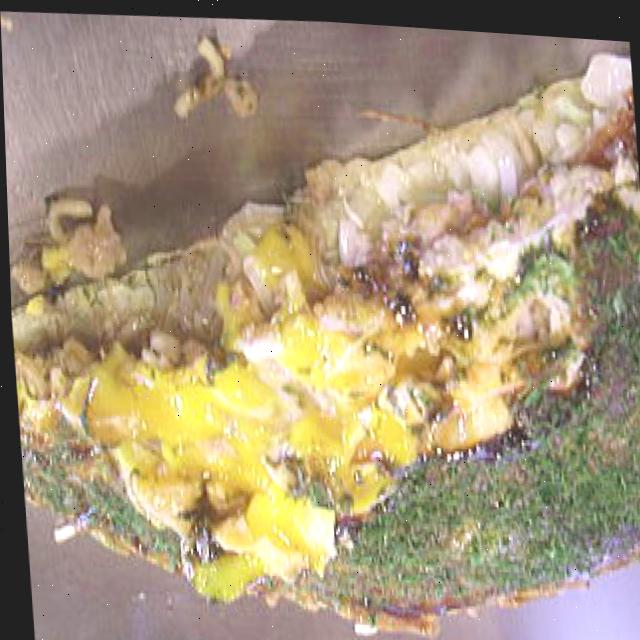蛋糕甜品: (0, 11, 640, 640)
